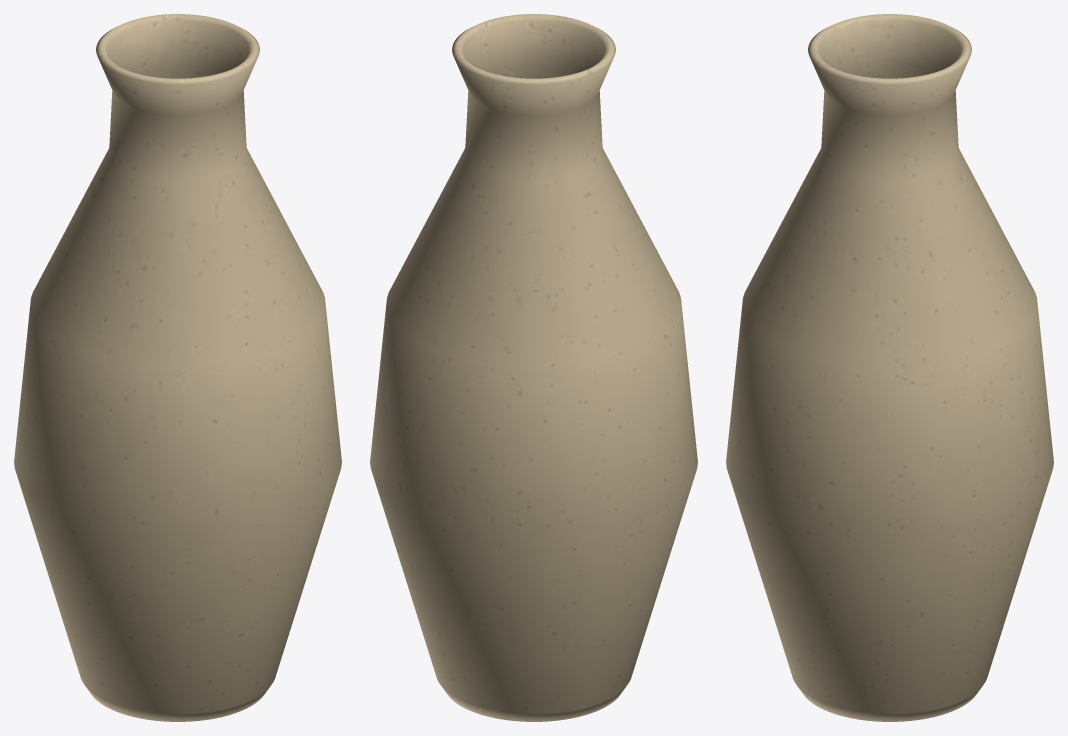
The model's file is amphora-sand.glb.
The picture shows the model from 3 angles, left to right: view 1: azimuth 30°, elevation 25°; view 2: azimuth 150°, elevation 25°; view 3: azimuth 270°, elevation 25°; orthographic projection.
Visible parts, largest first — view 1: ceramic_primary; view 2: ceramic_primary; view 3: ceramic_primary.
Boxes of the visible parts, box(x1,y1,x2,y2) form: ceramic_primary: box(14, 14, 341, 721); ceramic_primary: box(370, 14, 697, 721); ceramic_primary: box(726, 14, 1053, 721).
Bounding box in the file's own units: 0.15 × 0.3217 × 0.15.
Materials: 1 (1 with a texture image).
